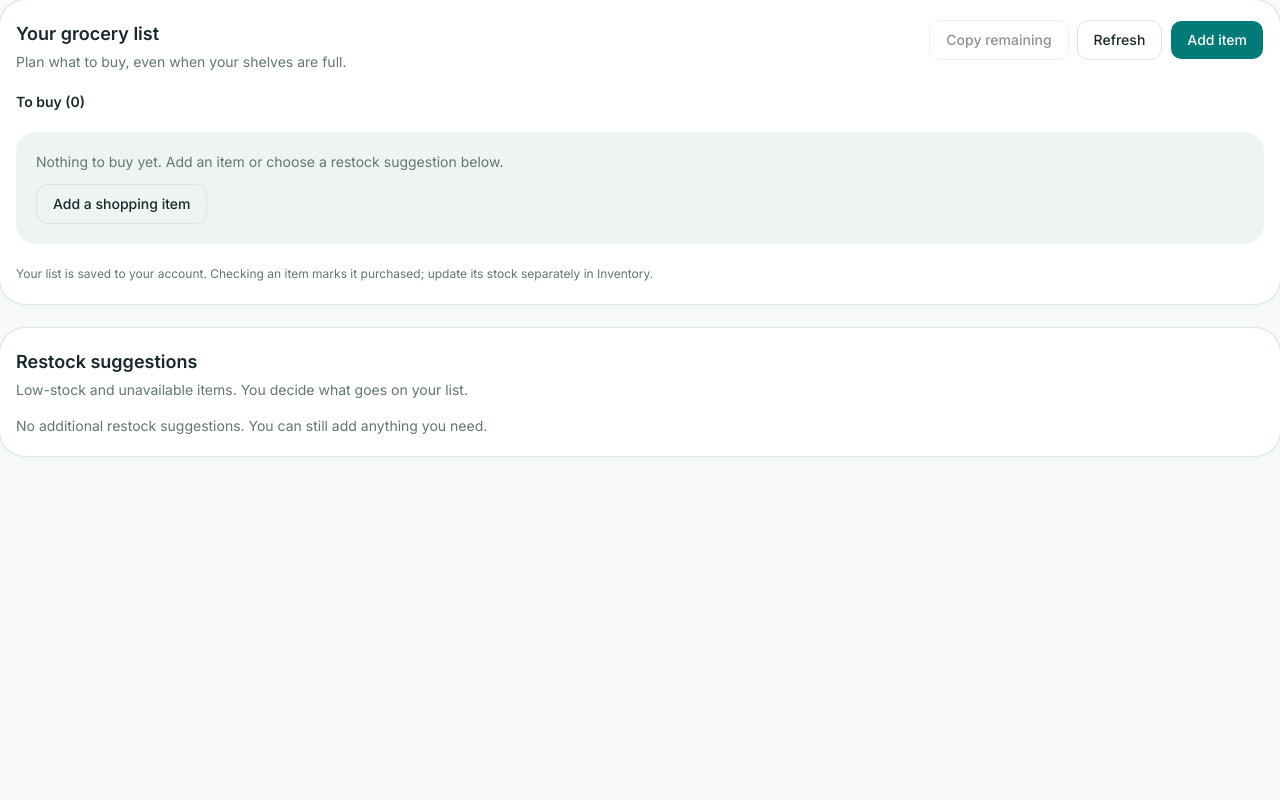
Test: an empty grocery list offers an add action and returns focus after its first item is saved
The width and height of the screenshot is (1280, 800).
Click the button "Add a shopping item" at (122, 204), box [36,184,208,224]
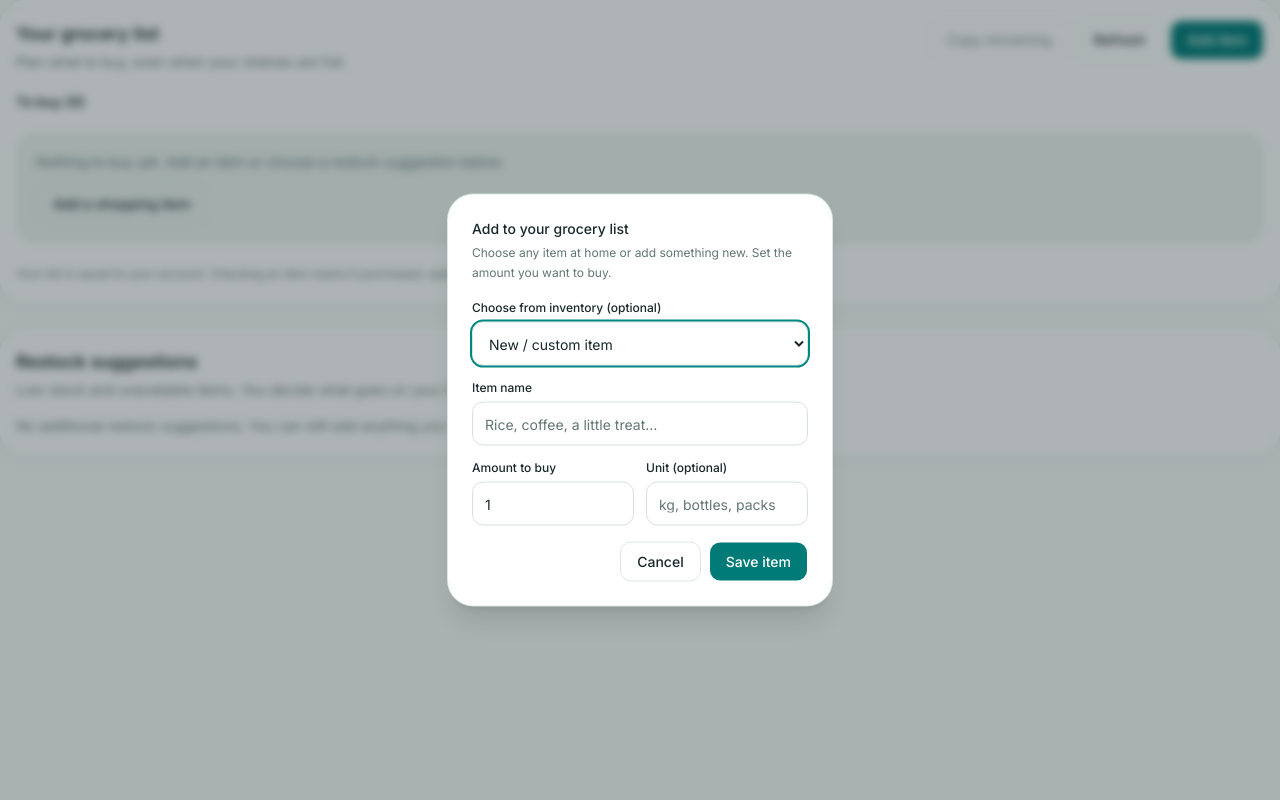
Type "Milk" into the field labelled "Item name" at (640, 424), box [472,402,808,446]
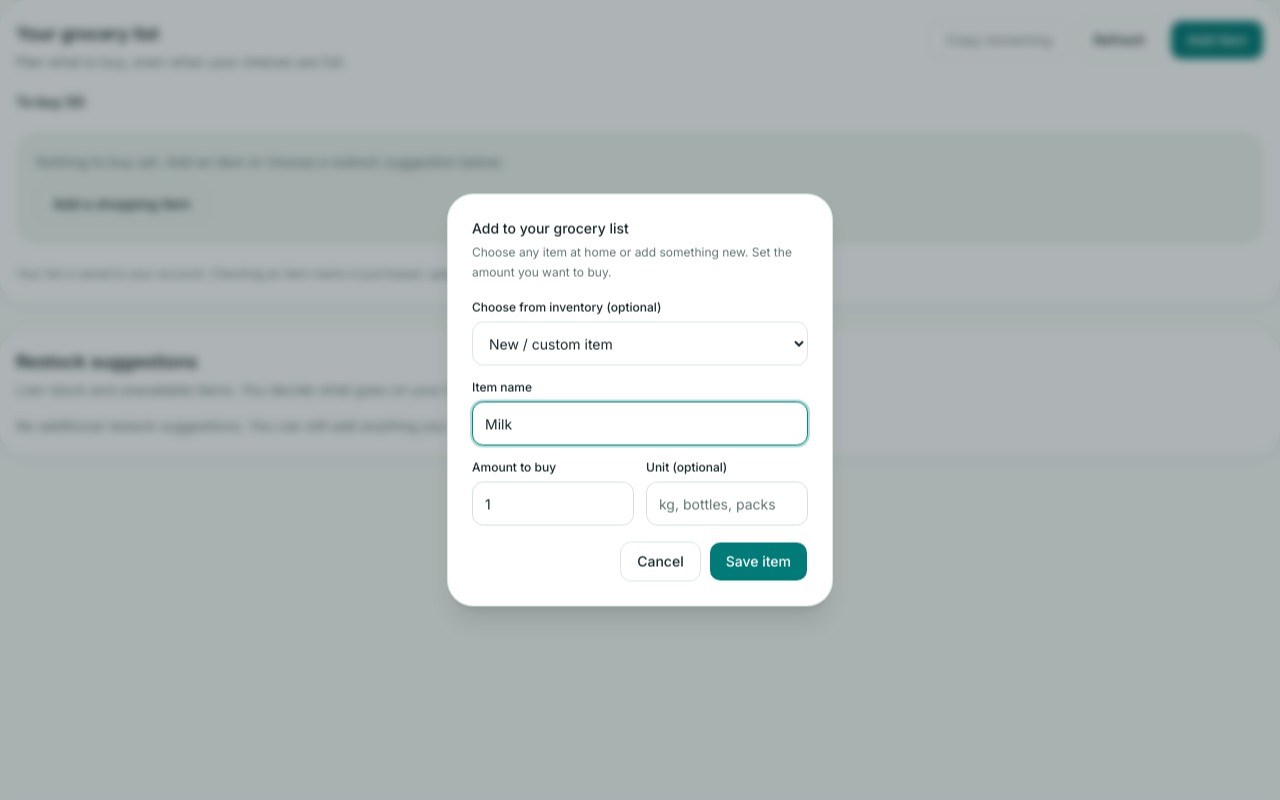
Click the button "Save item" at (758, 562), box [709,542,808,582]
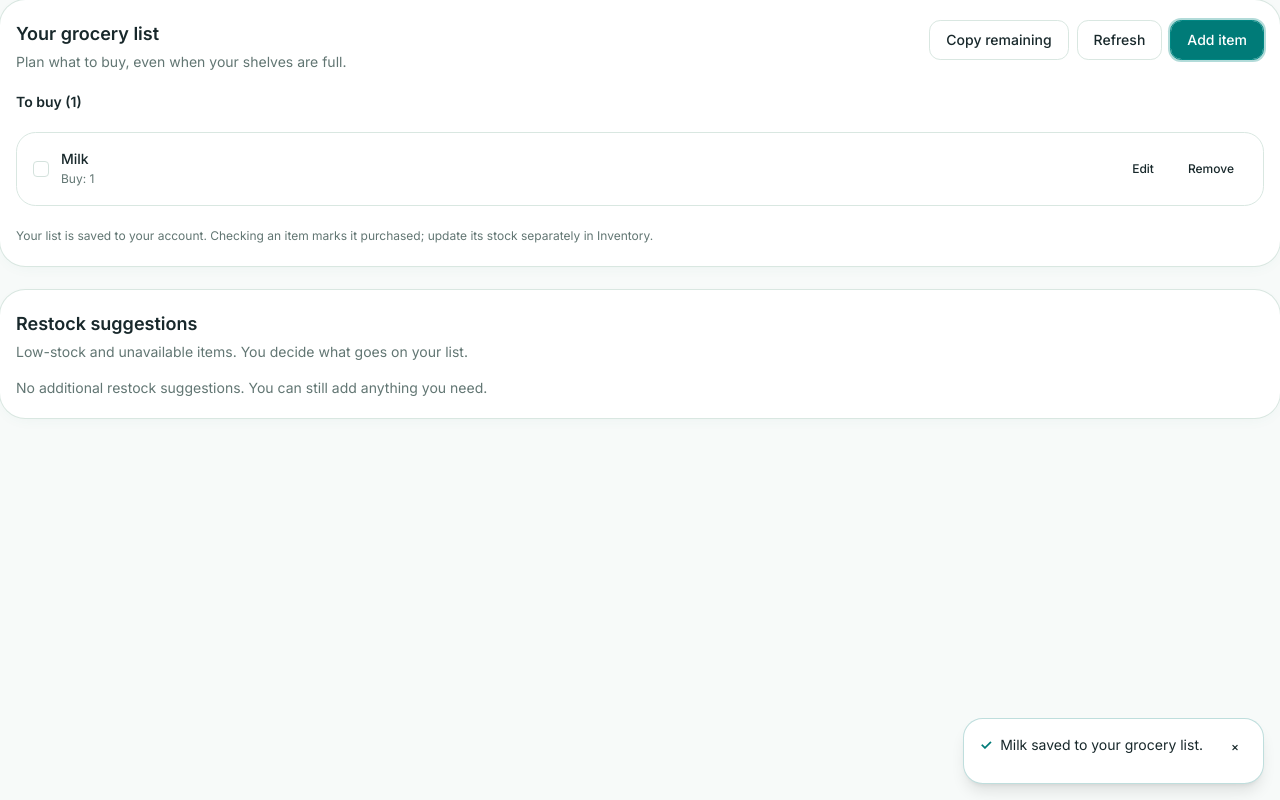
Expected: the checkbox named "Milk" is shown, [33,161,49,177]
Expected: the button "Add a shopping item" is gone
